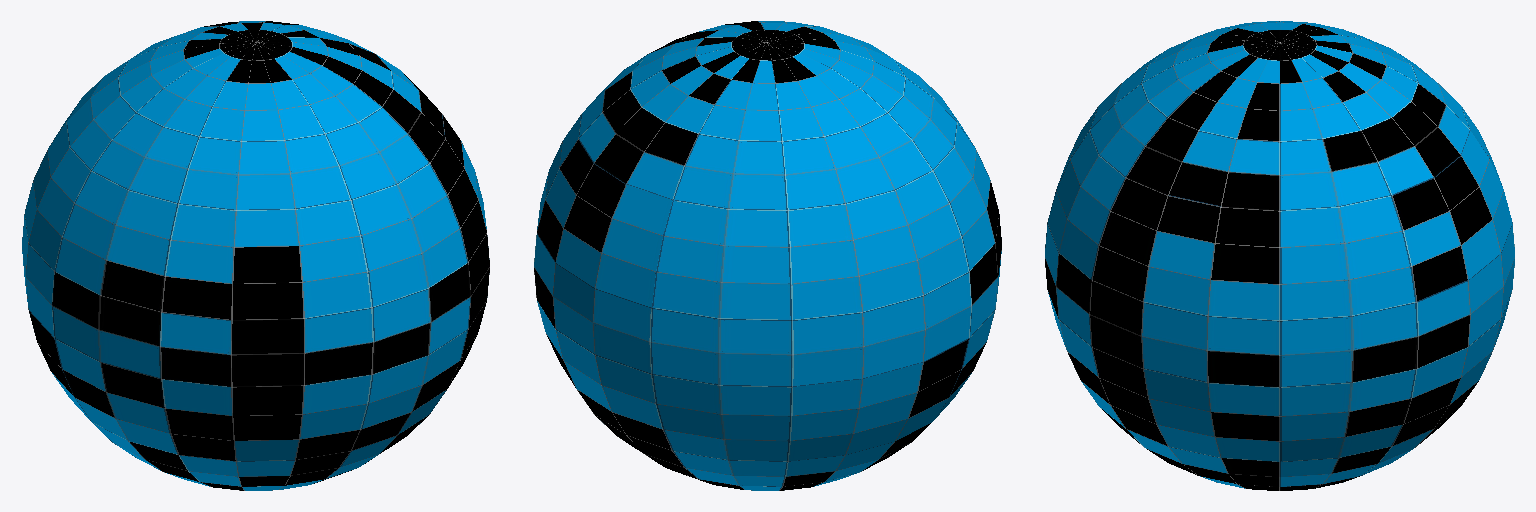
3 renders of one model, left to right at view 1: azimuth 30°, elevation 25°; view 2: azimuth 150°, elevation 25°; view 3: azimuth 270°, elevation 25°, orthographic.
Parts seen in each view (by area): view 1: pSphere1; view 2: pSphere1; view 3: pSphere1.
Boxes of the visible parts, x1=… form: pSphere1: x1=22, y1=21, x2=489, y2=490; pSphere1: x1=534, y1=21, x2=1001, y2=490; pSphere1: x1=1045, y1=21, x2=1514, y2=490.
Bounding box in the file's own units: 2 × 2 × 2.
1 materials, 1 textured.